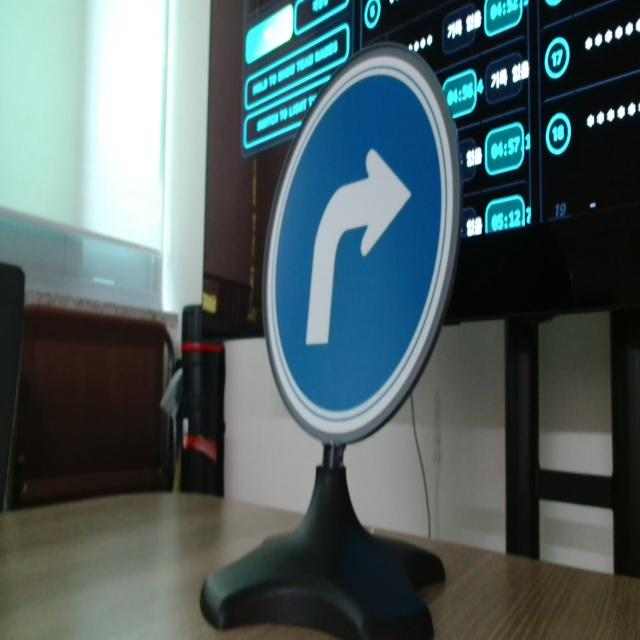right_dierection: (257, 45, 458, 450)
